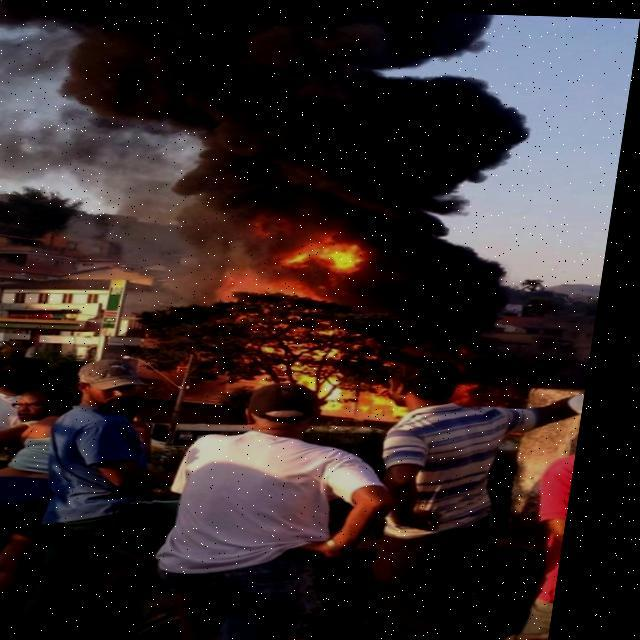Fire: (263, 352, 417, 416), (255, 210, 388, 272), (224, 270, 336, 298), (464, 378, 490, 401)
